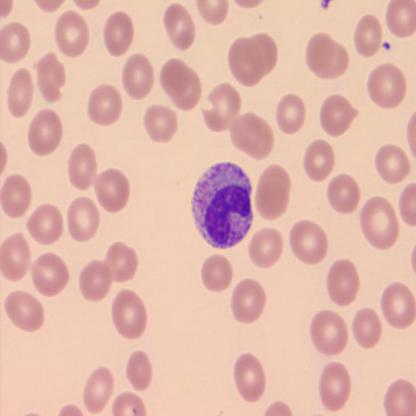Band Neutrophil: (189, 157, 255, 252)
